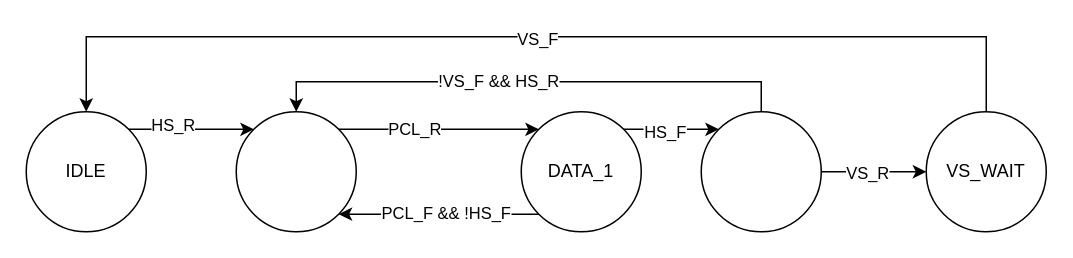
Image size: 1073x258. Some labels were removed from this diagram. Each missing label, with the centre of its shape:
DATA_0: the point at 295,171
HS_WAIT: the point at 760,171
